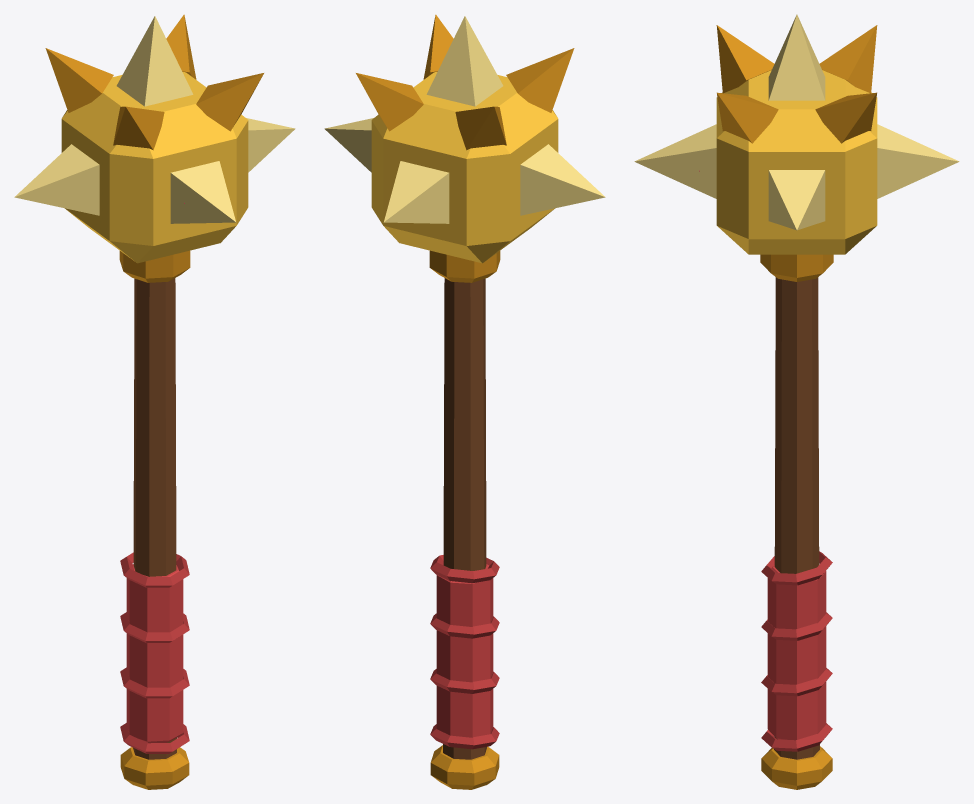
Rendered from GoldMace.fbx.
3 renders of one model, left to right at view 1: azimuth 30°, elevation 25°; view 2: azimuth 150°, elevation 25°; view 3: azimuth 270°, elevation 25°, orthographic.
Parts seen in each view (by area): view 1: GoldMace; view 2: GoldMace; view 3: GoldMace.
Part boxes in pixels (left/top/right/bottom): GoldMace: left=14, top=14, right=295, bottom=789; GoldMace: left=324, top=14, right=605, bottom=789; GoldMace: left=634, top=14, right=959, bottom=789.
Size of the model in its own units: 1.42 by 3.68 by 1.42.
Materials: 1 (1 with a texture image).
